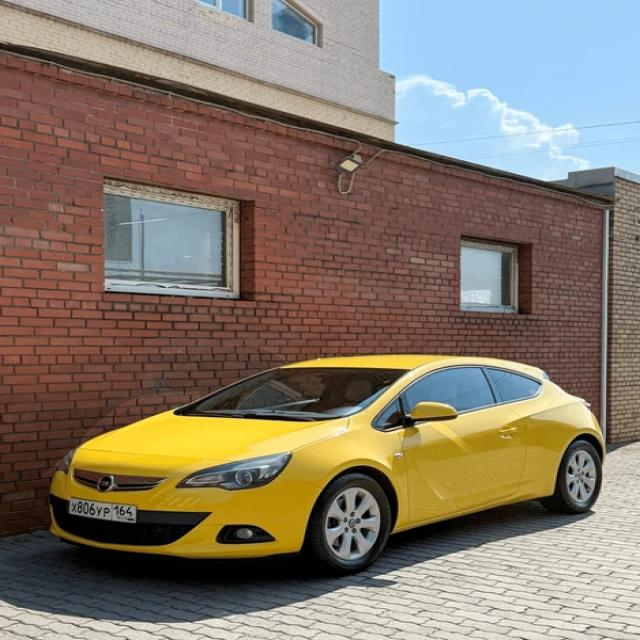opel: (94, 475, 115, 493)
